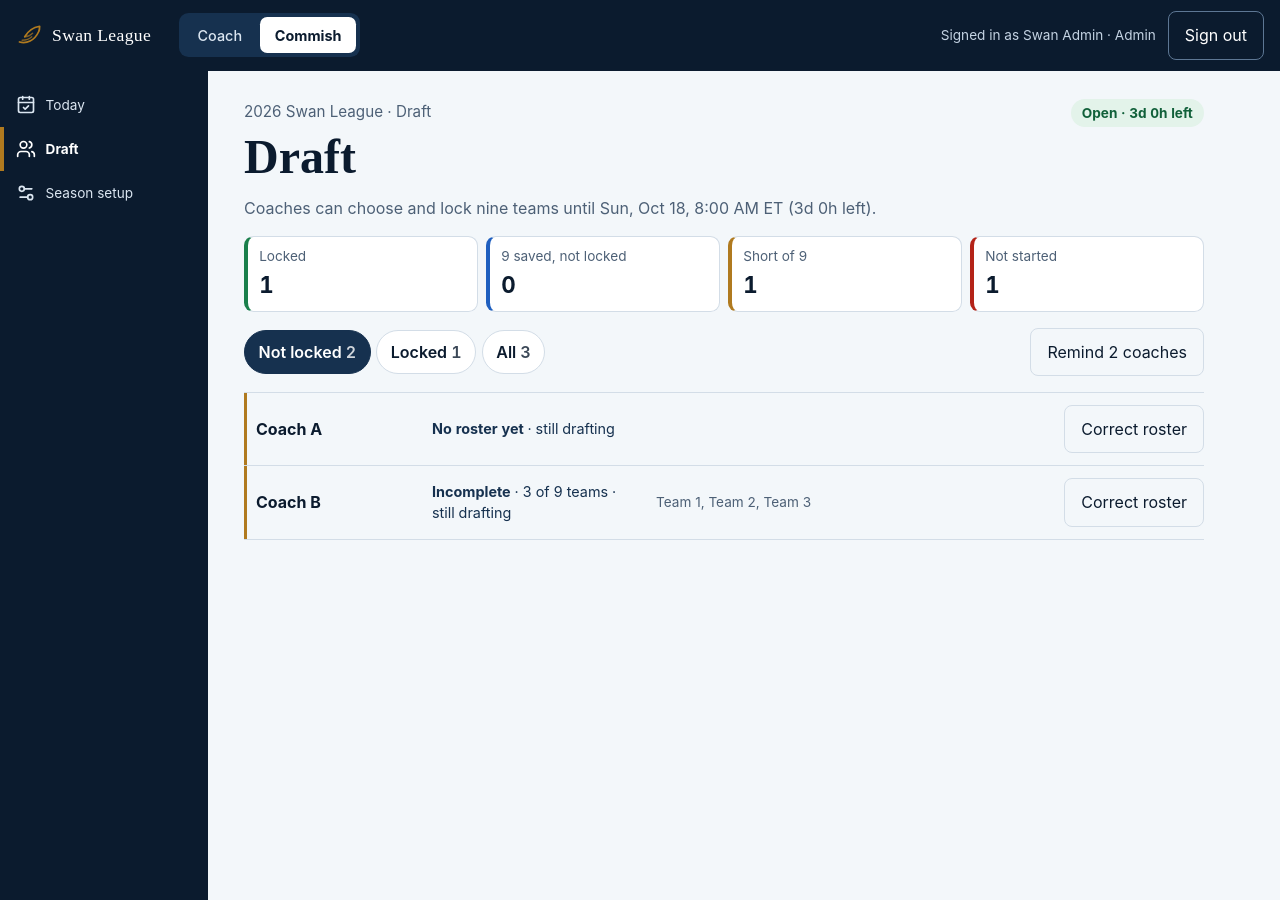
Test case: the commissioner sees the deadline, a count by state and every coach with missing and incomplete rosters first
Expected: the text "Coaches can choose and lock nine teams until Sun, Oct 18, 8:00 AM ET" is shown, 244,198 -> 876,218
Expected: the text "Open · 3d 0h left" is shown, 1071,99 -> 1204,127
What coordinates should you click on to do the following:
click the button "All 3"
I would click on:
 (514, 352)
Its box is 482,330 -> 545,374.
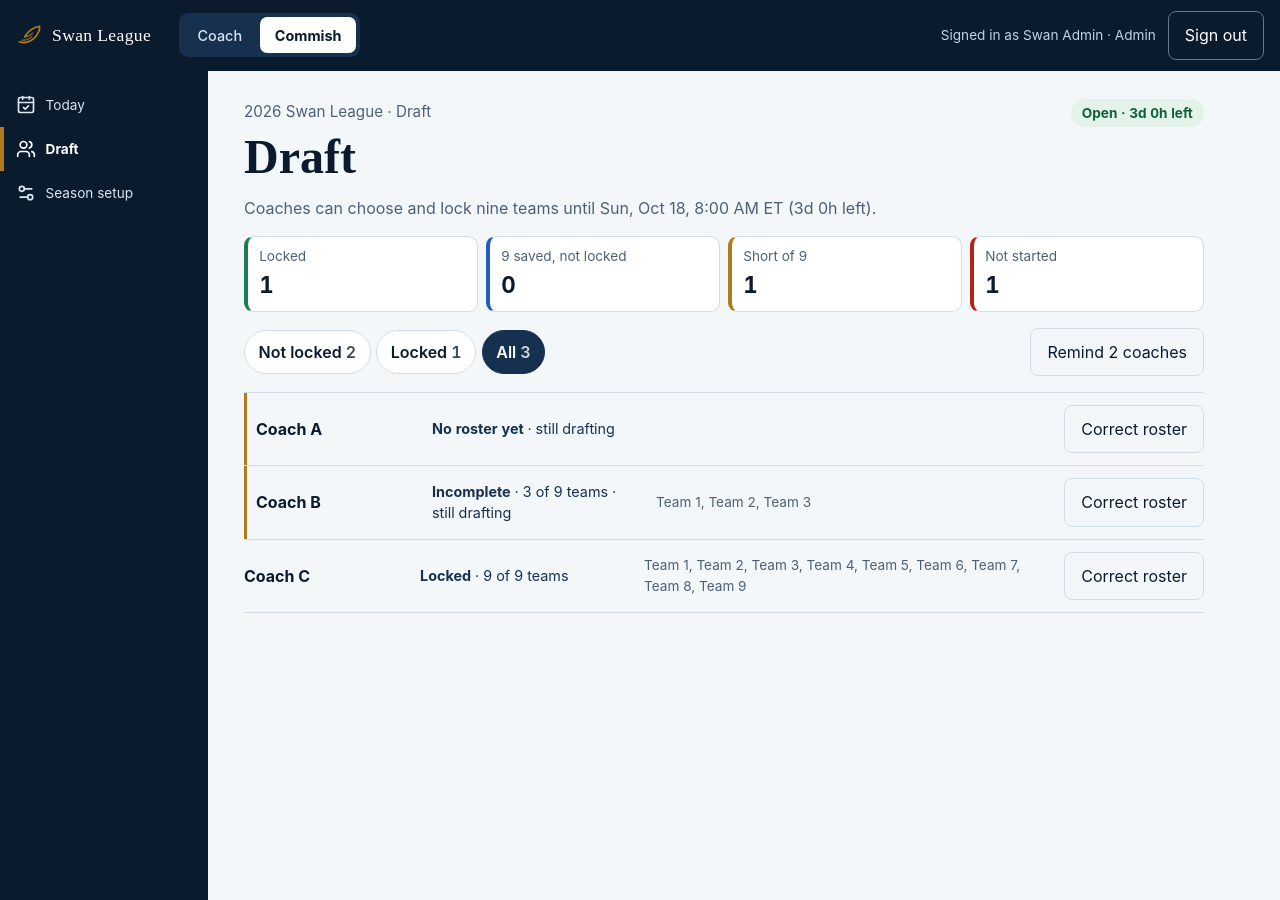
Expected: the list item "Coach A No roster yet · still drafting Correct roster" is shown, 244,393 -> 1204,466
Result: the list item that starts with "Coach C" shows "Locked · 9 of 9 teams" at 244,540 -> 1204,613
